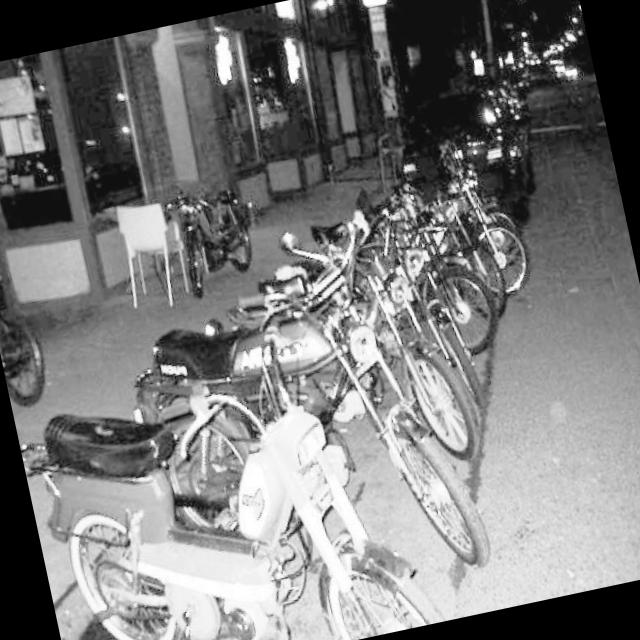Motorcycle: (88, 202, 487, 640), (9, 274, 418, 640), (200, 192, 484, 526), (0, 215, 59, 436)
